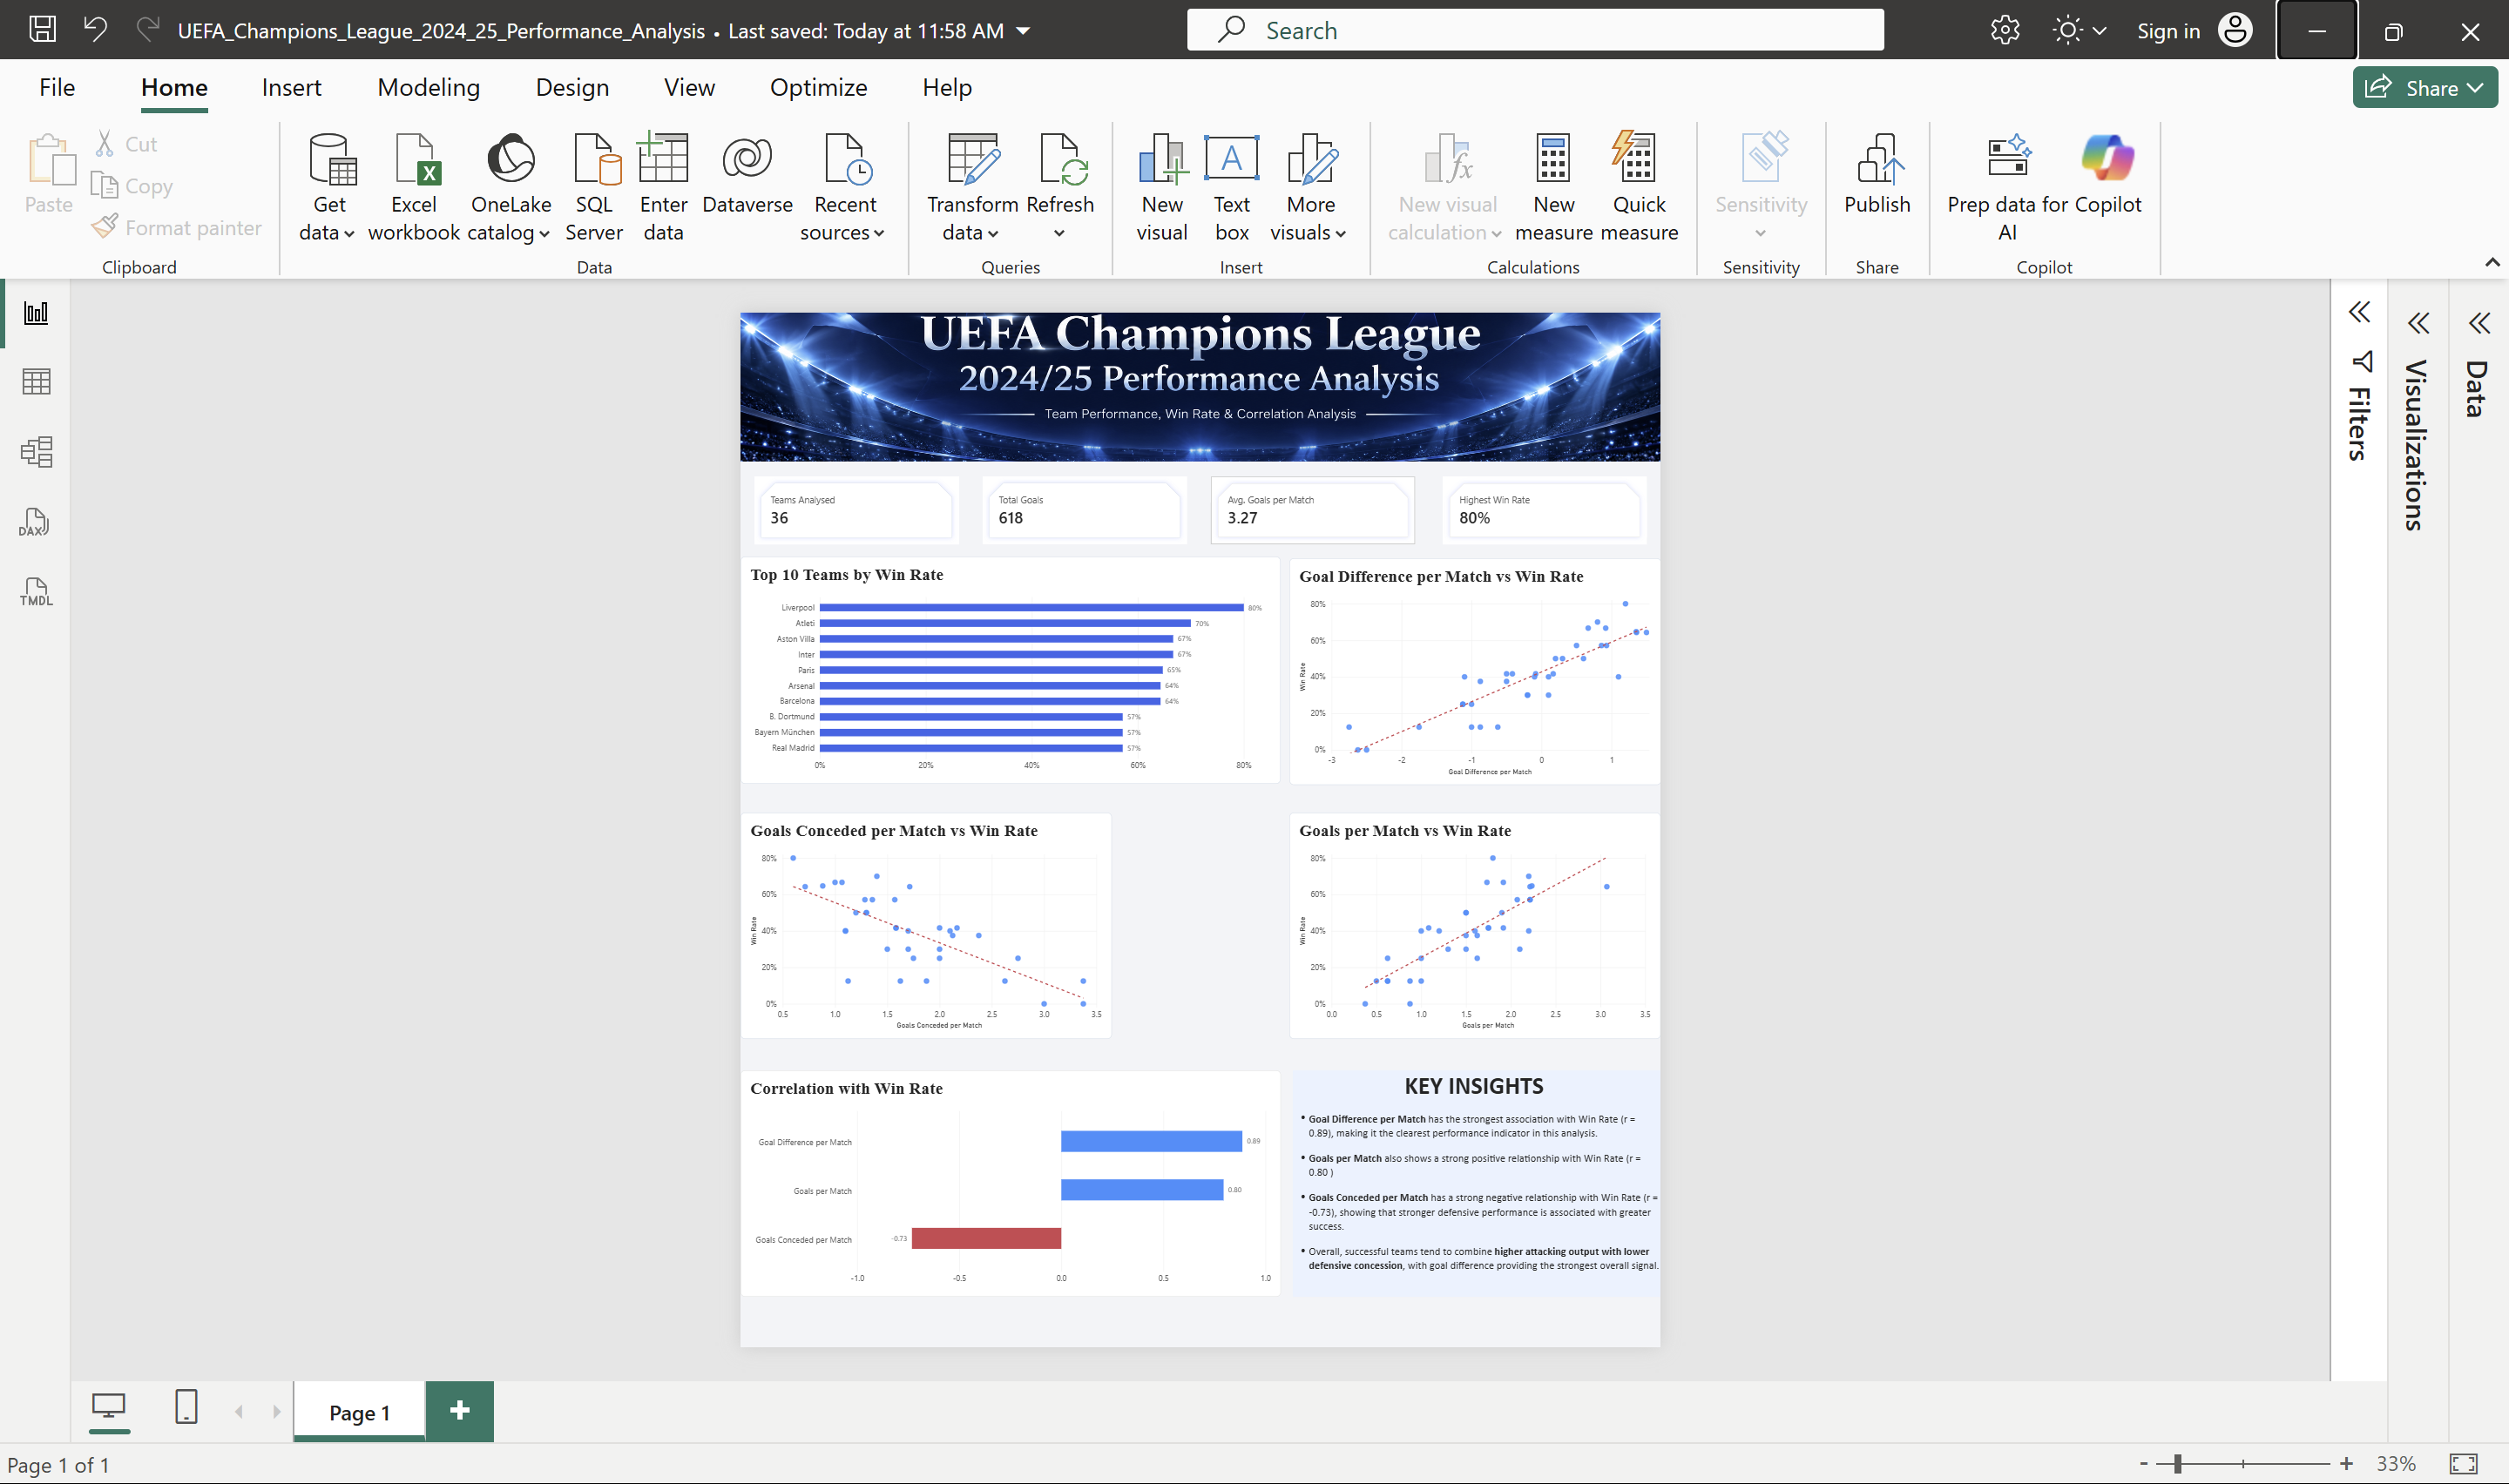

Layout of this report page (visuals, bound fields, positions):
{"tool":"powerbi","page":{"name":"Page 1","canvas":[1600,1800],"ordinal":0},"visuals":[{"type":"textbox","box":[0,0,1600,217.8],"z":0},{"type":"textbox","box":[9.2,636.2,987.6,98.8],"z":1000},{"type":"cardVisual","fields":{"Data":["Count(UEFA_Champions_League_Project_Team_Performance.Team)"]},"box":[25.7,284.8,356,118.7],"z":2000},{"type":"cardVisual","fields":{"Data":["Sum(UEFA_Champions_League_Project_Team_Performance.Total Goals Scored)"]},"box":[421.3,284.8,355.4,118],"z":3000},{"type":"cardVisual","fields":{"Data":["UEFA_Champions_League_Project_Team_Performance.Average Goals per Match"]},"box":[818.8,284.8,356,118.7],"z":4000},{"type":"cardVisual","fields":{"Data":["Max(UEFA_Champions_League_Project_Team_Performance.Win %)"]},"box":[1220.3,284.8,355,118.7],"z":5000},{"type":"clusteredBarChart","title":"Top 10 Teams by Win Rate","fields":{"Category":["UEFA_Champions_League_Project_Team_Performance.Team"],"Y":["Max(UEFA_Champions_League_Project_Team_Performance.Win %)"]},"box":[0,425.2,939.4,395.6],"z":6000},{"type":"scatterChart","title":"Goal Difference per Match vs Win Rate","fields":{"Category":["UEFA_Champions_League_Project_Team_Performance.Team"],"X":["Sum(UEFA_Champions_League_Project_Team_Performance.Goal Difference per Match)"],"Y":["Sum(UEFA_Champions_League_Project_Team_Performance.Win %)"]},"box":[953.1,425.8,646.9,394.7],"z":7000},{"type":"scatterChart","title":"Goals per Match vs Win Rate","fields":{"Category":["UEFA_Champions_League_Project_Team_Performance.Team"],"X":["Sum(UEFA_Champions_League_Project_Team_Performance.Goals per Match)"],"Y":["Sum(UEFA_Champions_League_Project_Team_Performance.Win %)"]},"box":[953.1,868.8,646,394],"z":8000},{"type":"scatterChart","title":"Goals Conceded per Match vs Win Rate","fields":{"Category":["UEFA_Champions_League_Project_Team_Performance.Team"],"X":["Sum(UEFA_Champions_League_Project_Team_Performance.Goals Conceded per Match)"],"Y":["Sum(UEFA_Champions_League_Project_Team_Performance.Win %)"]},"box":[0,868.6,646,394],"z":9000},{"type":"clusteredBarChart","title":"Correlation with Win Rate","fields":{"Category":["Correlation Summary.Metric"],"Y":["Sum(Correlation Summary.Correlation )"]},"box":[0,1318.8,940,394],"z":10000},{"type":"textbox","box":[959.4,1318.8,640.6,393.8],"z":11000},{"type":"image","box":[0,0,1600,259.1],"z":12000}]}

Visuals, with their boxes on the page's 1600x1800 design canvas (x1, y1, x2, y2). These are canvas units, not pixel positions in the 2509x1484 screenshot, which may show the page scaled, cropped or inside an application window:
textbox: BBox(0, 0, 1600, 218)
textbox: BBox(9, 636, 997, 735)
cardVisual - Count(UEFA_Champions_League_Project_Team_Performance.Team): BBox(26, 285, 382, 404)
cardVisual - Sum(UEFA_Champions_League_Project_Team_Performance.Total Goals Scored): BBox(421, 285, 777, 403)
cardVisual - UEFA_Champions_League_Project_Team_Performance.Average Goals per Match: BBox(819, 285, 1175, 404)
cardVisual - Max(UEFA_Champions_League_Project_Team_Performance.Win %): BBox(1220, 285, 1575, 404)
"Top 10 Teams by Win Rate" clusteredBarChart: BBox(0, 425, 939, 821)
"Goal Difference per Match vs Win Rate" scatterChart: BBox(953, 426, 1600, 820)
"Goals per Match vs Win Rate" scatterChart: BBox(953, 869, 1599, 1263)
"Goals Conceded per Match vs Win Rate" scatterChart: BBox(0, 869, 646, 1263)
"Correlation with Win Rate" clusteredBarChart: BBox(0, 1319, 940, 1713)
textbox: BBox(959, 1319, 1600, 1713)
image: BBox(0, 0, 1600, 259)
